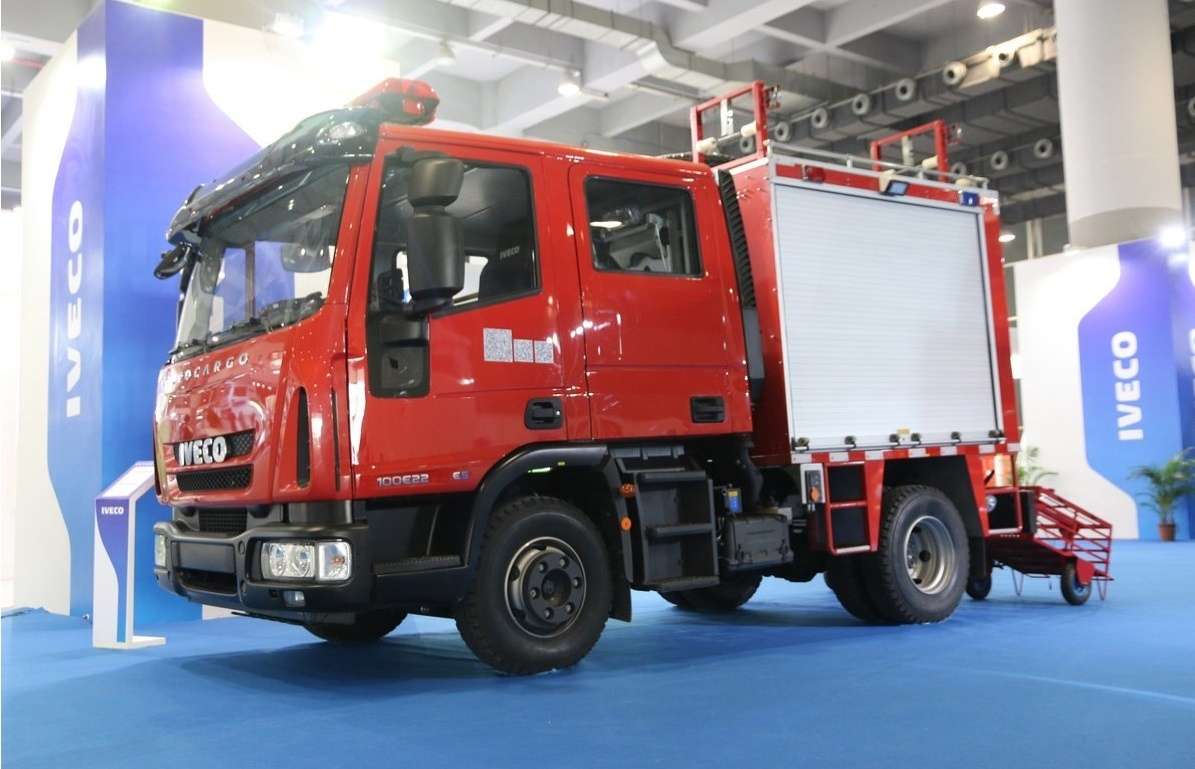fire engine: (119, 82, 1069, 656)
